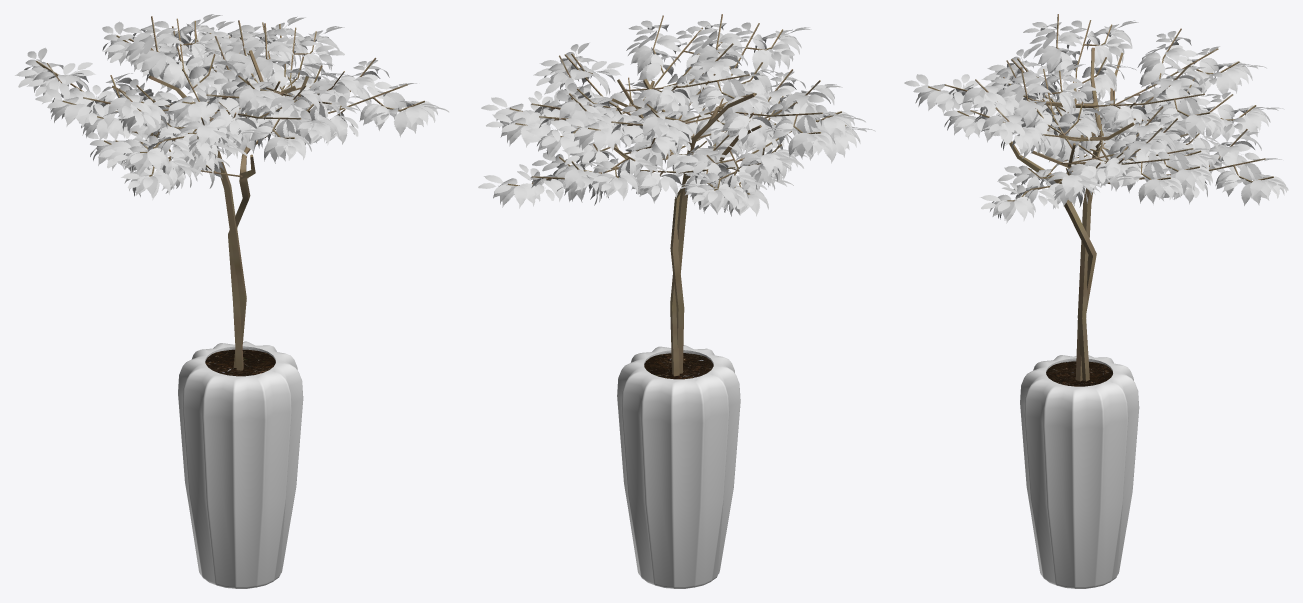
File: Plants_Pots_13.fbx
3 renders of one model, left to right at view 1: azimuth 30°, elevation 25°; view 2: azimuth 150°, elevation 25°; view 3: azimuth 270°, elevation 25°, orthographic. The views are drawn at different scales.
Parts seen in each view (by area): view 1: Cylinder.002; view 2: Cylinder.002; view 3: Cylinder.002.
Boxes of the visible parts, x1,y1,x2,y2 form: Cylinder.002: (15, 14, 449, 588); Cylinder.002: (478, 14, 875, 588); Cylinder.002: (904, 14, 1288, 588).
Bounding box in the file's own units: 126 × 188 × 131.
